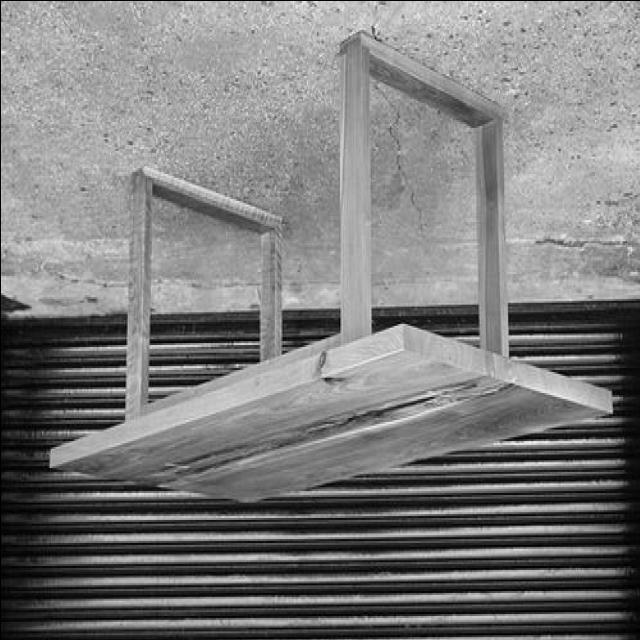table: (45, 28, 613, 503)
